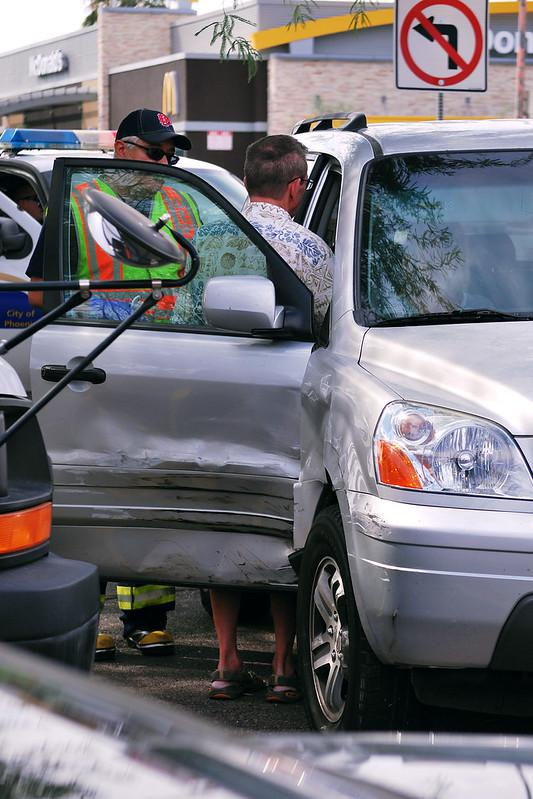doorouter-dent: (45, 162, 308, 570)
